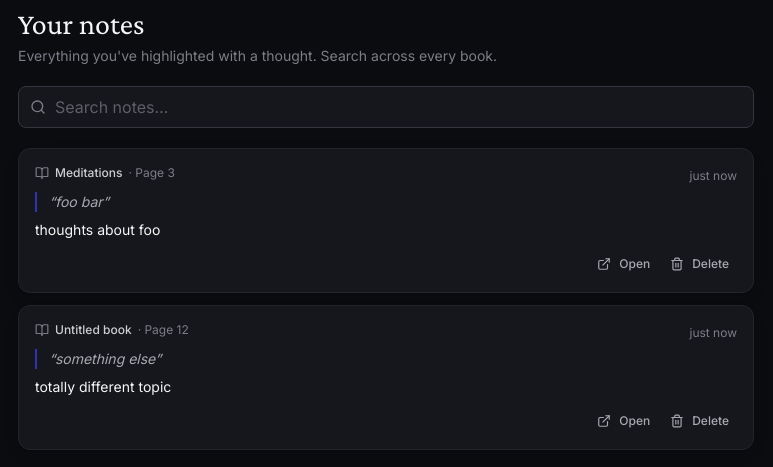
Test: <NotesPage /> › filters notes by search term
This screenshot has width=773, height=467.
Type "thoughts" into the search field with placeholder "Search notes…".
click(386, 107); type("thoughts")  # box x1=18 y1=86 x2=754 y2=128
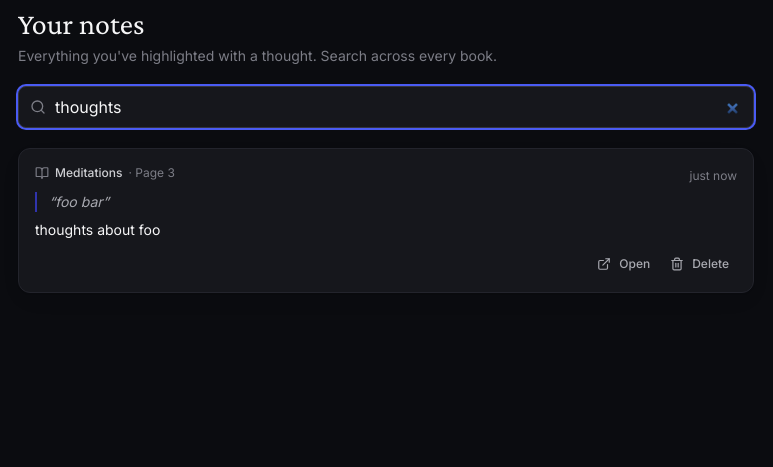
Expected: the text "thoughts about foo" is shown, x1=35 y1=221 x2=160 y2=238
Now the text "totally different" is gone
